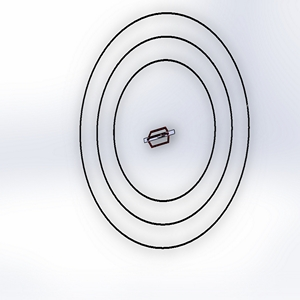circle: (71, 8, 255, 252)
submarine: (137, 120, 182, 155)
